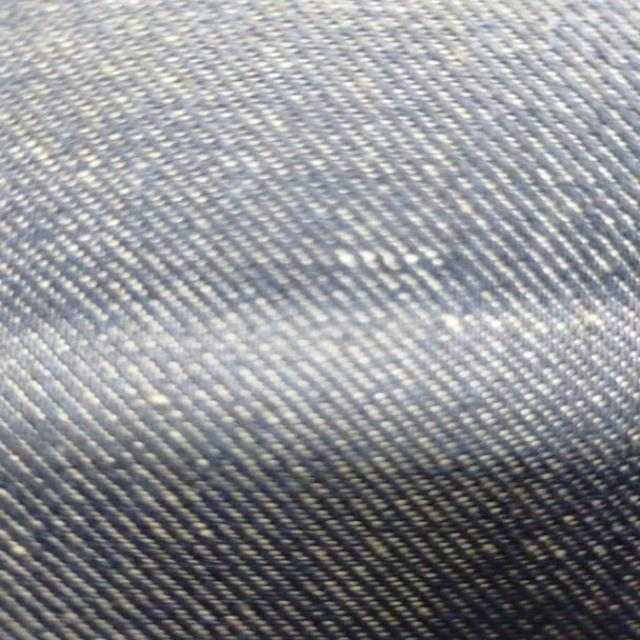Knot: (335, 247, 445, 271)
